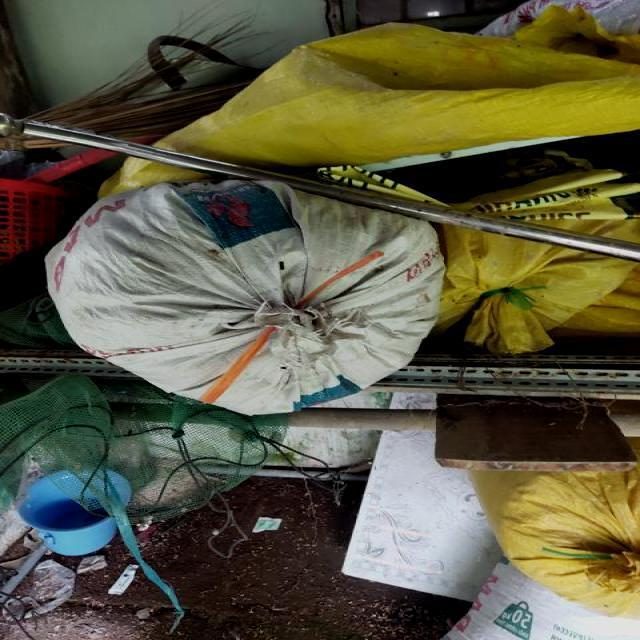gunny_bag: (44, 180, 445, 416)
